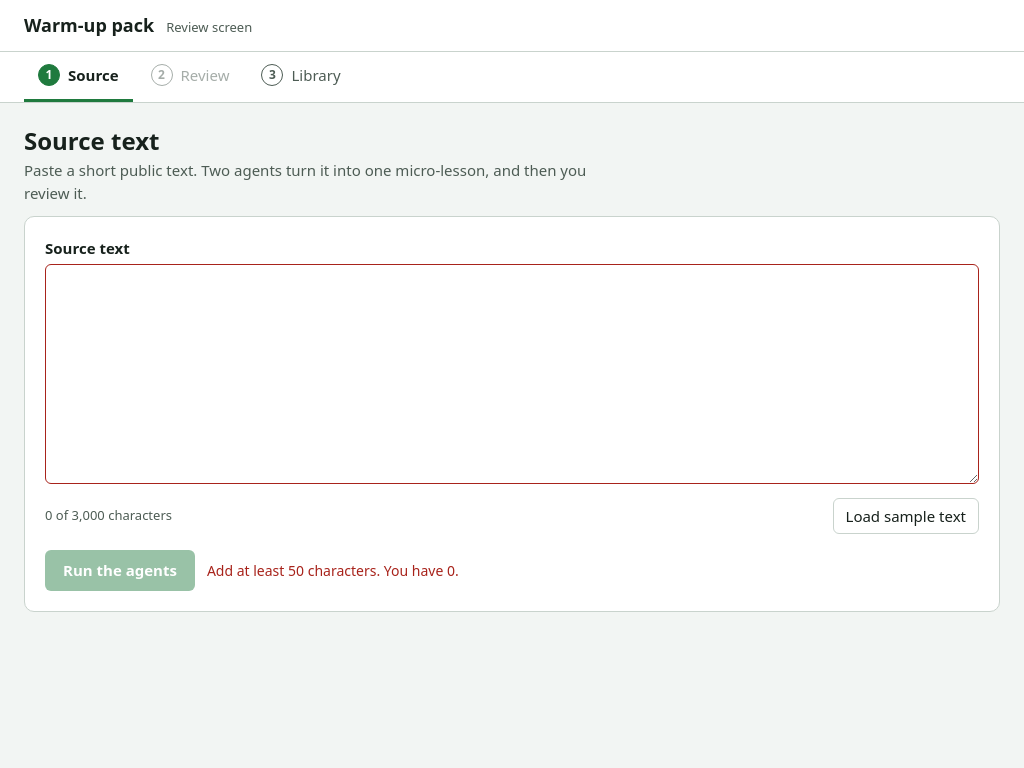
Test case: Review screen app › requires a reason to reject and saves it (FR-6)
Click the button "Load sample text": (906, 516) 832,498 -> 979,534
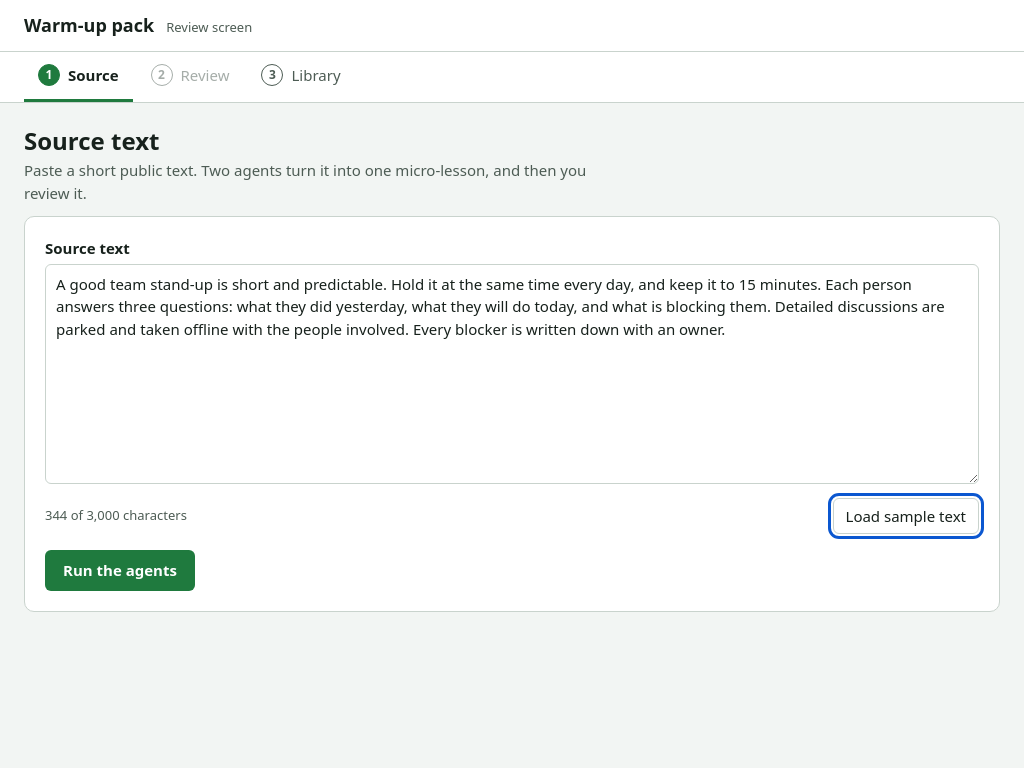
Click the button "Run the agents": (120, 571) 45,550 -> 195,591
(page scrolled)
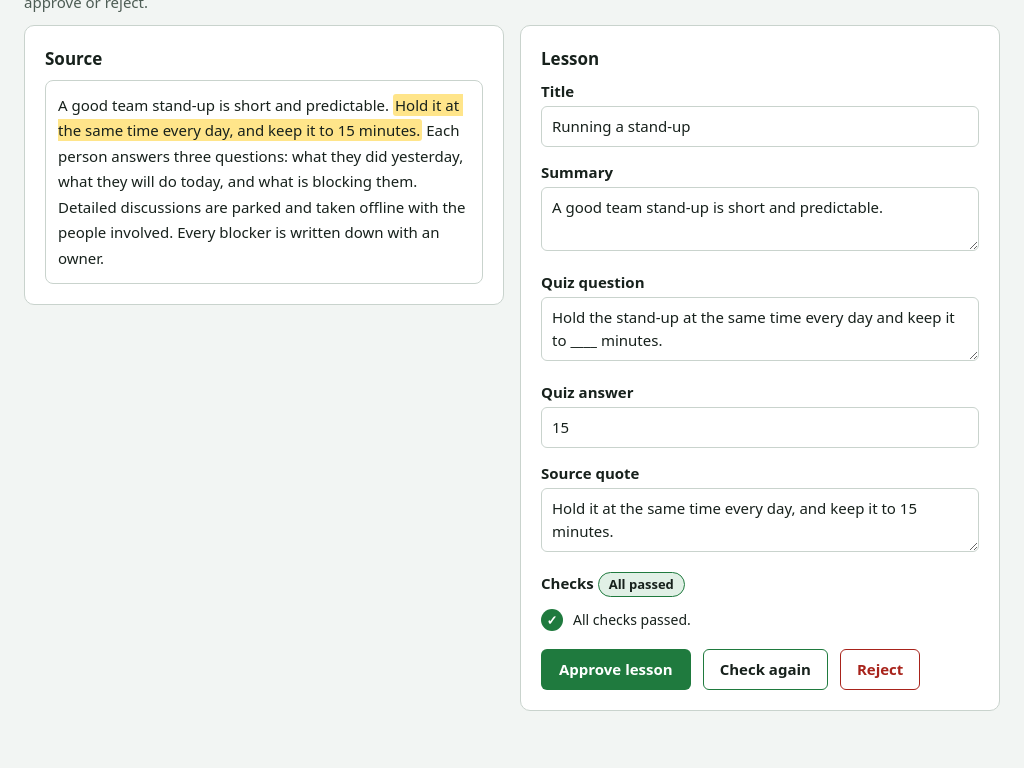
Click the button "Reject": (880, 670) 840,650 -> 920,690
(page scrolled)
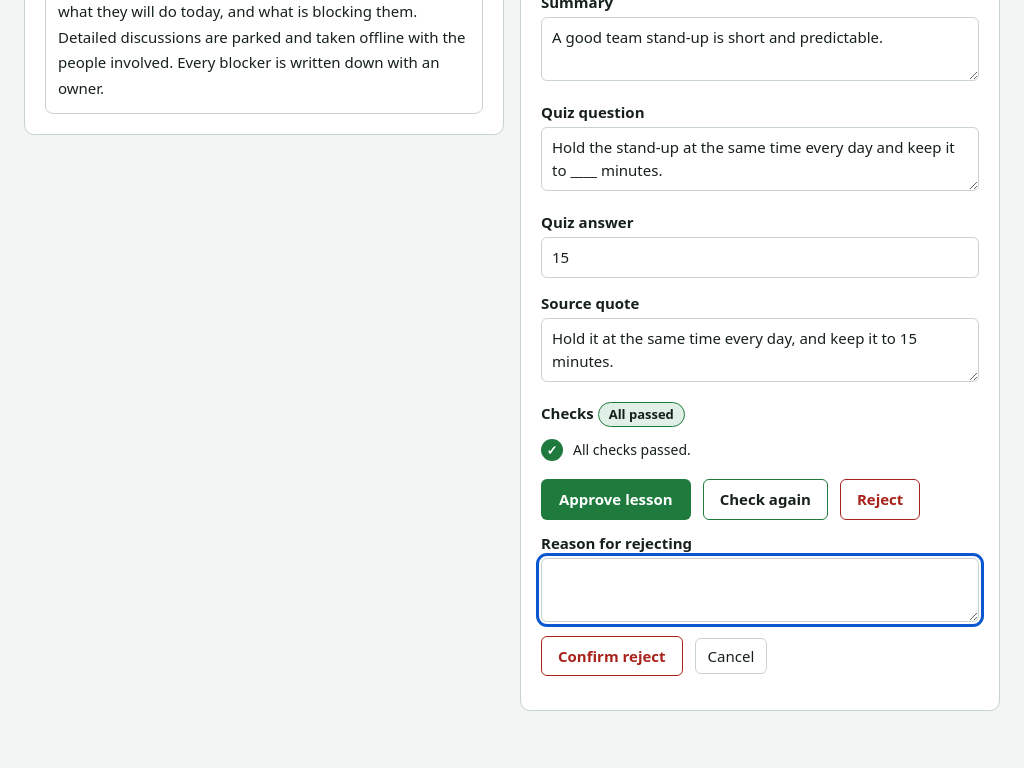
Click the button "Confirm reject": (612, 656) 541,636 -> 683,676
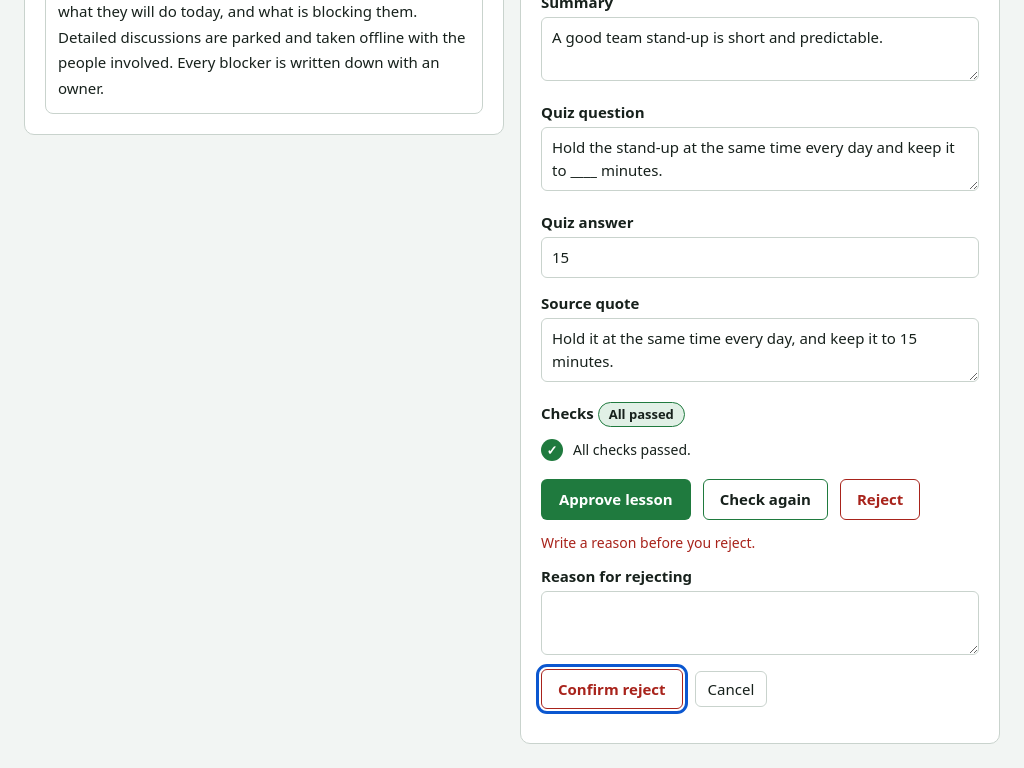
expect the message reads "Write a reason before you reject.": met, box 541,533 -> 755,552
In the text box labelled "Reason for rejecting": (760, 624) 541,592 -> 979,656, type "Too vague"
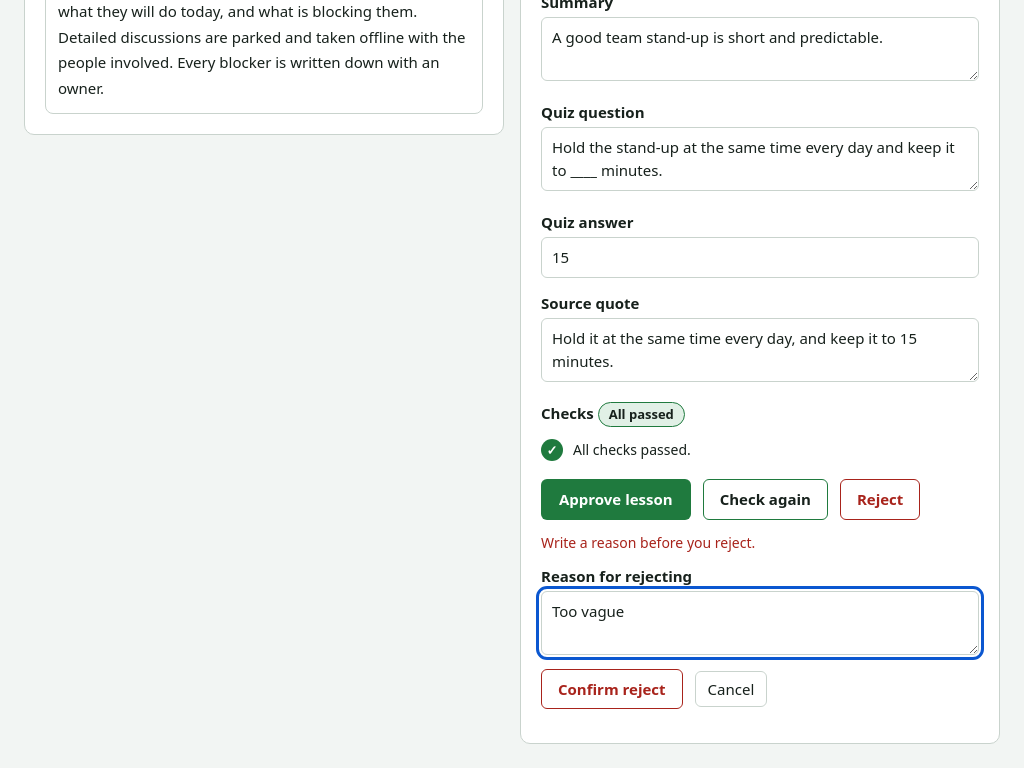
Click the button "Confirm reject": (612, 689) 541,669 -> 683,710
(page scrolled)
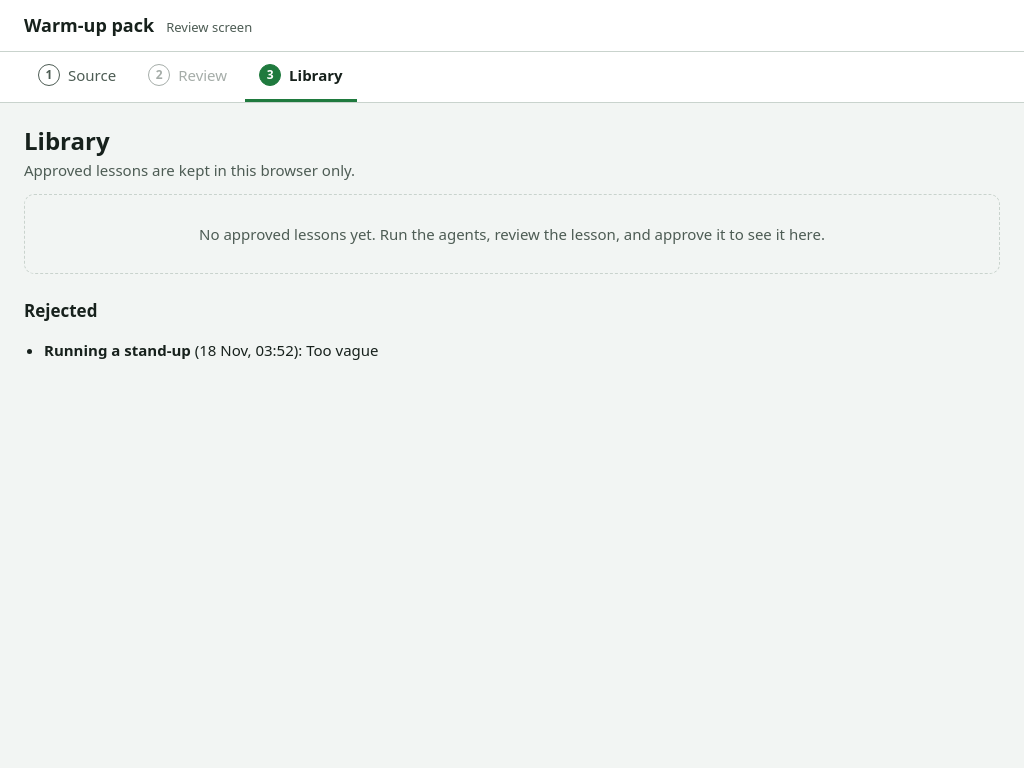
expect the heading "Library" is shown: met, box 24,124 -> 110,156
expect the list item "Running a stand-up (18 Nov, 03:52): Too vague" is shown: met, box 44,340 -> 378,360
